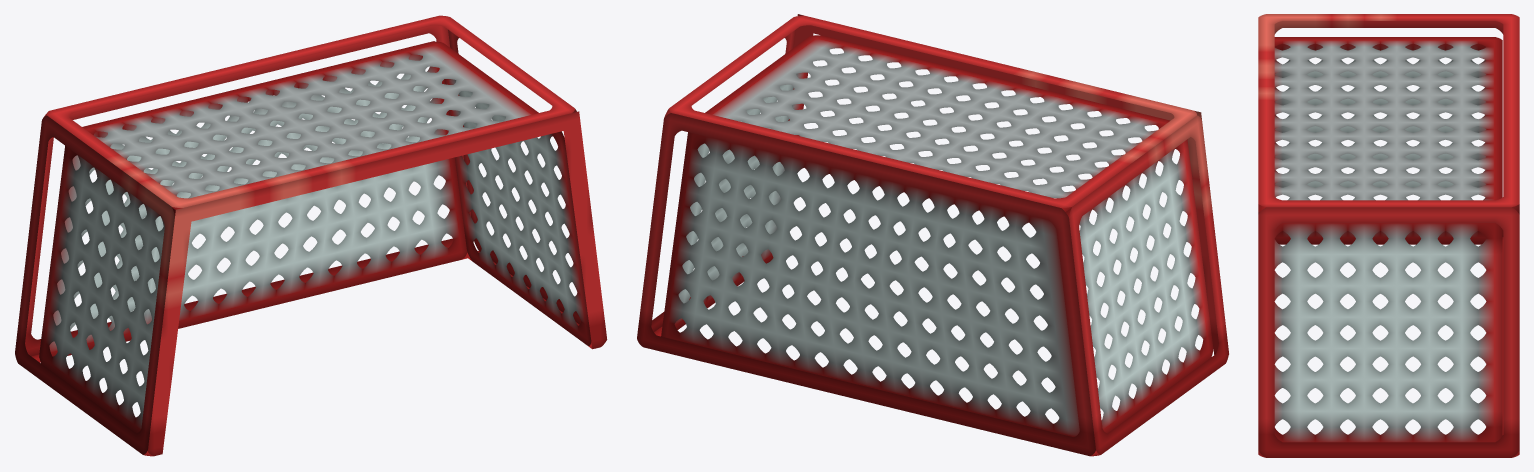
File: ArcoP.fbx
The picture shows the model from 3 angles, left to right: view 1: azimuth 30°, elevation 25°; view 2: azimuth 150°, elevation 25°; view 3: azimuth 270°, elevation 25°; orthographic projection.
Parts seen in each view (by area): view 1: Arco; view 2: Arco; view 3: Arco.
Boxes of the visible parts, bbox=[...] form: Arco: bbox=[15, 15, 607, 456]; Arco: bbox=[637, 14, 1228, 456]; Arco: bbox=[1258, 14, 1519, 457].
Bounding box in the file's own units: 200 × 100 × 100.
1 material, 1 textured.
